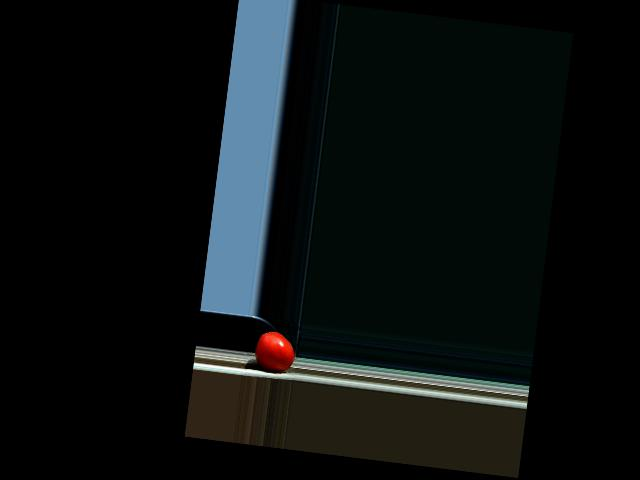tomato: (253, 329, 296, 373)
